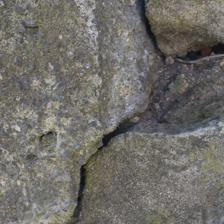Crack: (30, 50, 138, 118), (24, 162, 190, 201)
